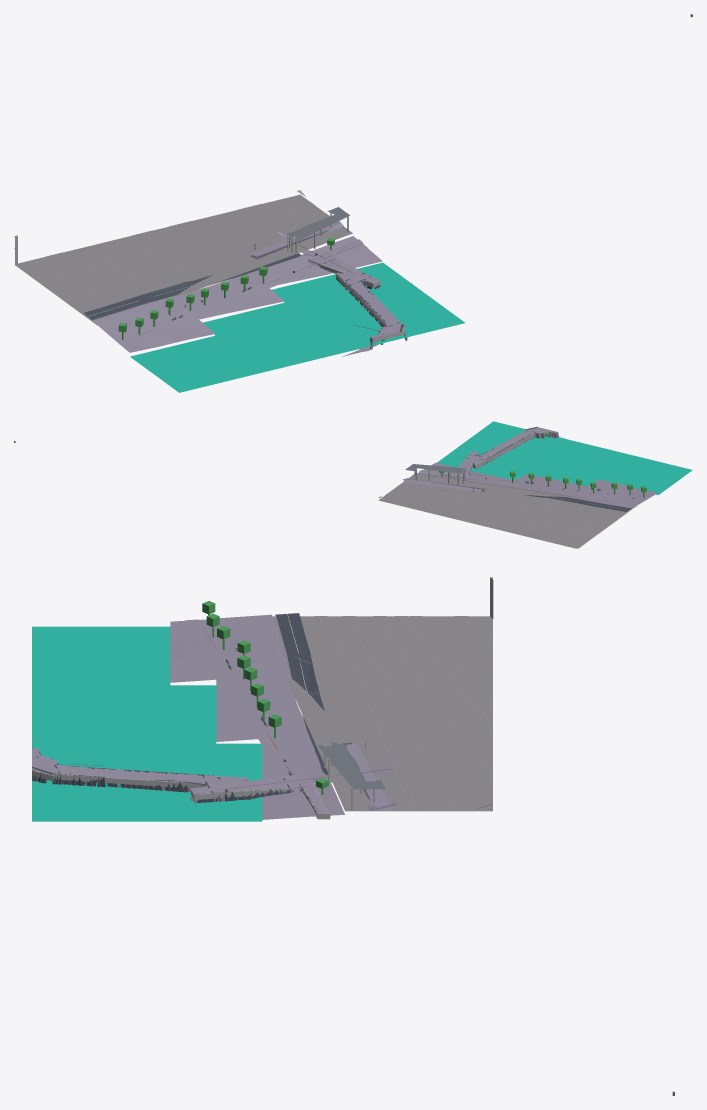
The picture shows the model from 3 angles, top to bottom: view 1: azimuth 30°, elevation 25°; view 2: azimuth 150°, elevation 25°; view 3: azimuth 270°, elevation 25°; orthographic projection. The views are drawn at different scales.
Visible parts, largest first — view 1: compiled-chunk; view 2: compiled-chunk; view 3: compiled-chunk.
Part boxes in pixels (box(x1,y1,x2,y2)): compiled-chunk: box(14, 14, 692, 392); compiled-chunk: box(14, 421, 692, 548); compiled-chunk: box(32, 577, 674, 1095).
Bounding box in the file's own units: 312 × 15.89 × 167.
